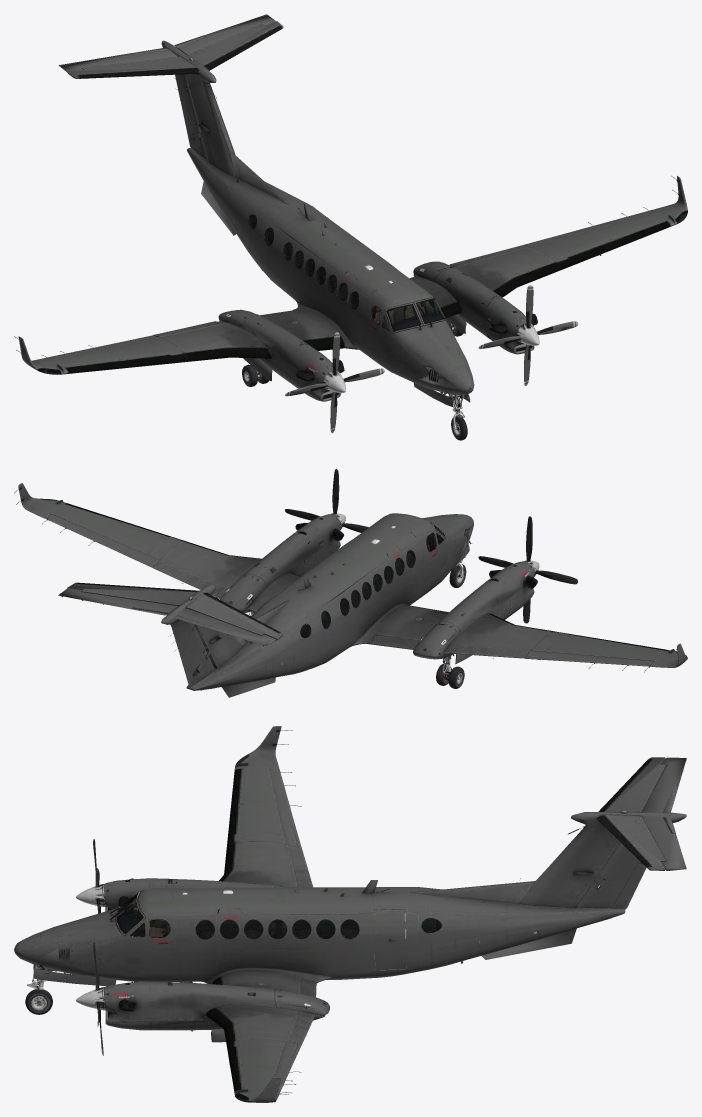
Rendered from king-air-350.glb.
The picture shows the model from 3 angles, top to bottom: view 1: azimuth 30°, elevation 25°; view 2: azimuth 150°, elevation 25°; view 3: azimuth 270°, elevation 25°; orthographic projection. The views are drawn at different scales.
Parts seen in each view (by area): view 1: Object_50, Object_138, Object_160, Object_76, Object_156; view 2: Object_50, Object_138, Object_160, Object_156, Object_162, Object_58; view 3: Object_50, Object_160, Object_162, Object_138, Object_76, Object_156.
Part boxes in pixels (box(x1,y1,x2,y2)): Object_50: box(14, 14, 687, 406); Object_138: box(285, 285, 578, 433); Object_160: box(37, 211, 687, 374); Object_76: box(370, 290, 444, 330); Object_156: box(242, 318, 467, 440); Object_50: box(14, 483, 687, 697); Object_138: box(285, 469, 577, 623); Object_160: box(40, 498, 686, 656); Object_156: box(436, 564, 466, 688); Object_162: box(301, 551, 412, 636); Object_58: box(301, 534, 415, 671); Object_50: box(14, 726, 686, 1102); Object_160: box(118, 754, 441, 1102); Object_162: box(197, 919, 440, 937); Object_138: box(76, 839, 105, 1055); Object_76: box(117, 892, 168, 937); Object_156: box(25, 989, 52, 1014).
Size of the model in its own units: 17.53 by 4.73 by 14.19.
31 materials, 28 textured.
